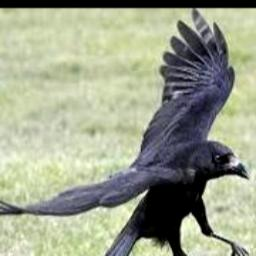Crow: (0, 8, 250, 256)
